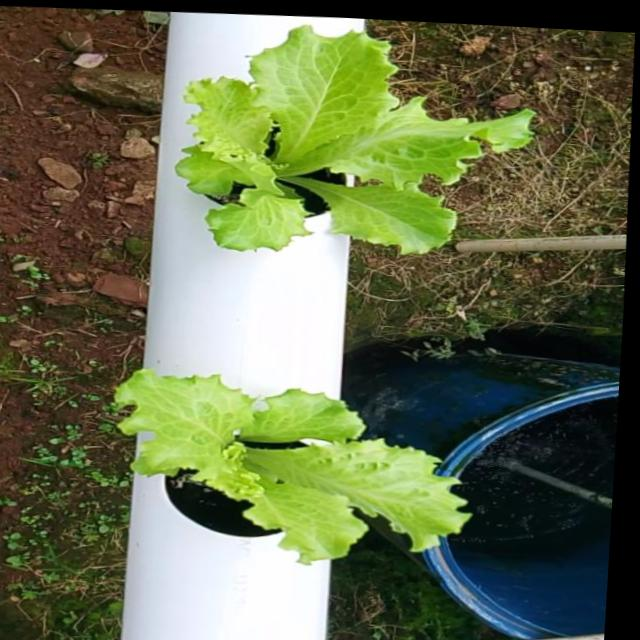Baby: (177, 27, 536, 260), (115, 379, 474, 575)
